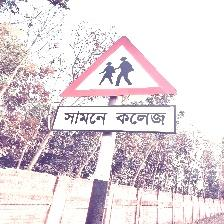College-in-front: (57, 30, 185, 147)
